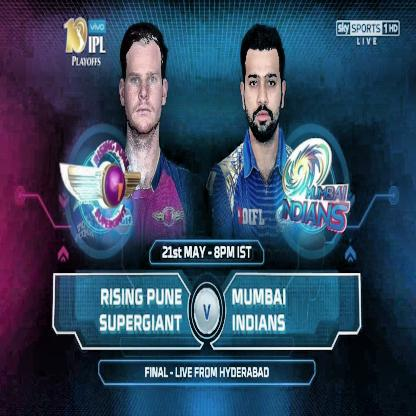IPL: (73, 23, 86, 52), (89, 37, 106, 54)
Mumbai Indians: (278, 131, 354, 236)
Rising Pune Supergiants: (59, 139, 141, 231)
Vivo: (89, 22, 105, 32)
